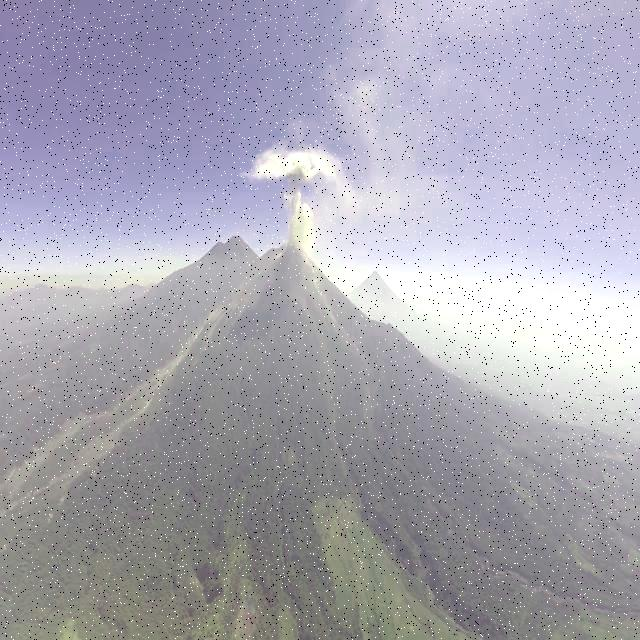Plume: (250, 150, 323, 184), (282, 186, 316, 254)
